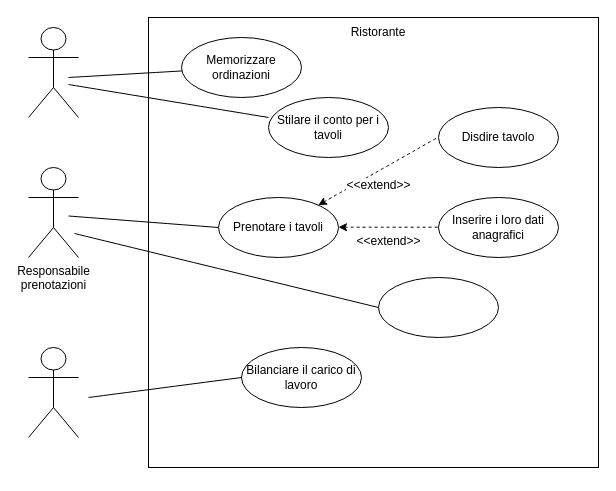
The diagram is 616 pixels wide and 491 high, and some of its shapes have lost their labels. Here are the shapes that lost their labels. From the top down, the centre of each, then its label:
At point 53,72: "Camerieri".
At point 438,307: "Assegnare camerieri ai clienti".
At point 53,392: "Responsabile personale".
